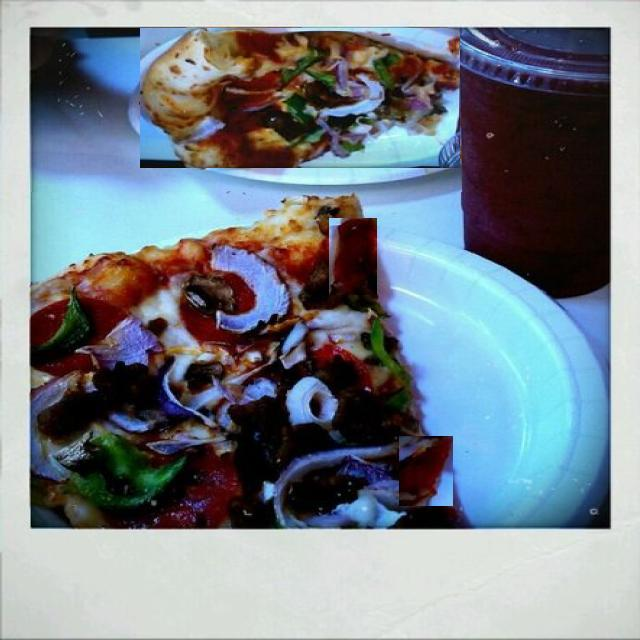pepperoni: (140, 444, 239, 528), (30, 296, 130, 378), (400, 436, 454, 506), (330, 218, 378, 295)
pizza: (31, 192, 474, 527), (140, 28, 460, 168)
